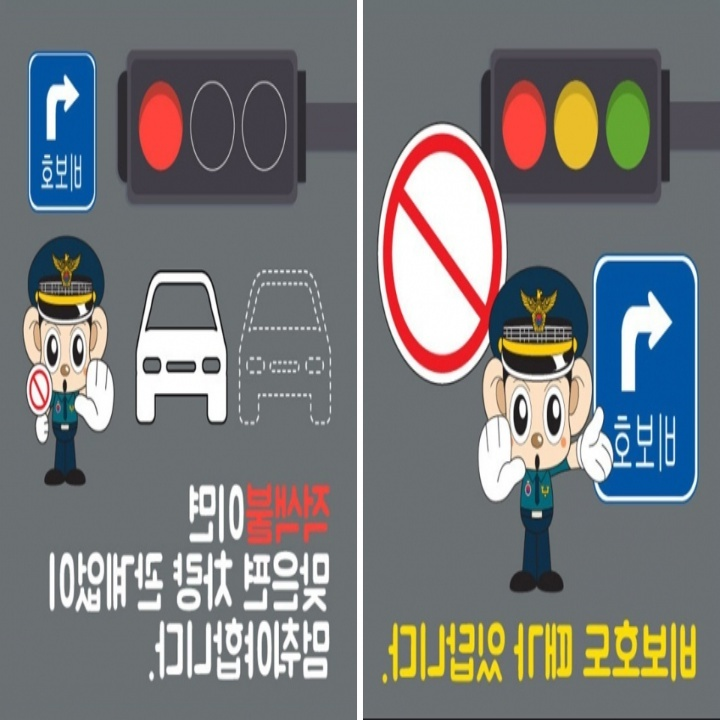right: (614, 282, 676, 396), (35, 68, 84, 151)
